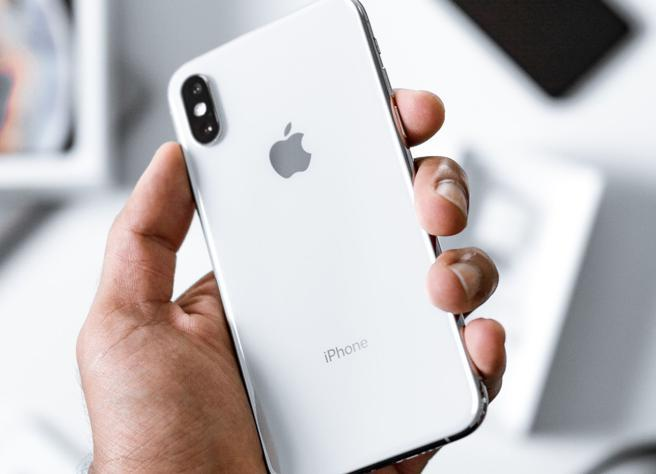Hand: (62, 99, 507, 474)
Smartphone: (159, 30, 468, 468)
